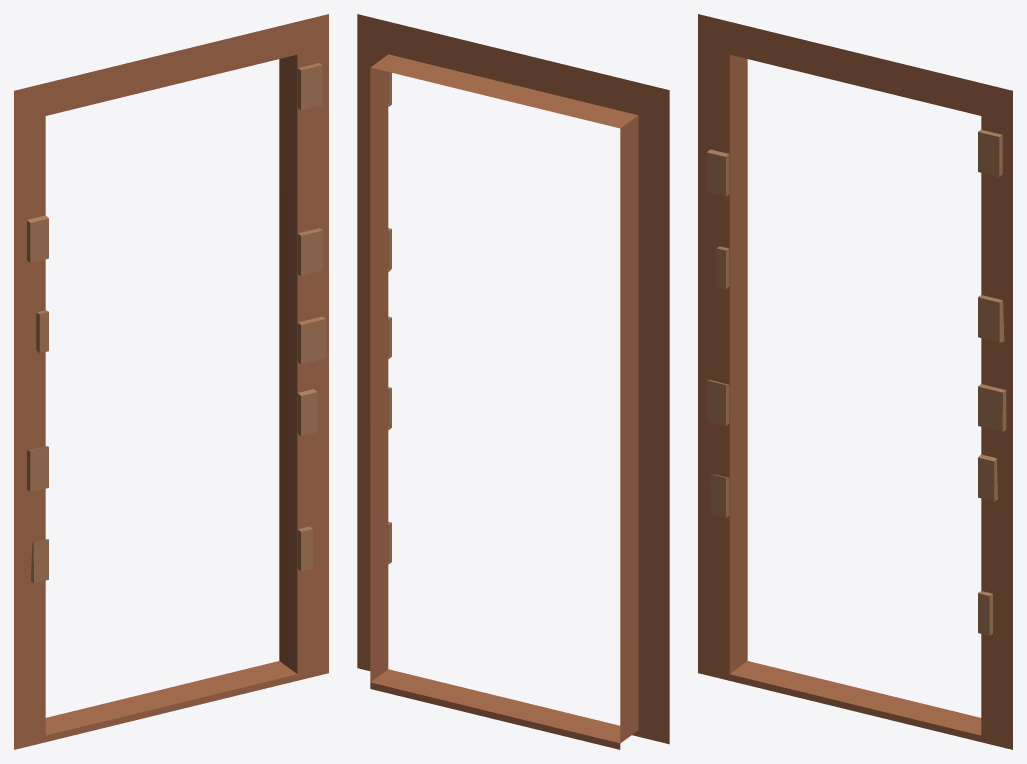
Rendered from Ext-BrickV3Doorframe.fbx.
3 views of the same model, side by side, from view 1: azimuth 30°, elevation 25°; view 2: azimuth 150°, elevation 25°; view 3: azimuth 330°, elevation 25° (orthographic).
Parts seen in each view (by area): view 1: Ext-BrickV3Doorframe; view 2: Ext-BrickV3Doorframe; view 3: Ext-BrickV3Doorframe.
Part boxes in pixels (x1,y1,x2,y2): Ext-BrickV3Doorframe: [14, 14, 328, 749]; Ext-BrickV3Doorframe: [357, 14, 669, 749]; Ext-BrickV3Doorframe: [698, 14, 1012, 749].
Bounding box in the file's own units: 100 × 200 × 12.
